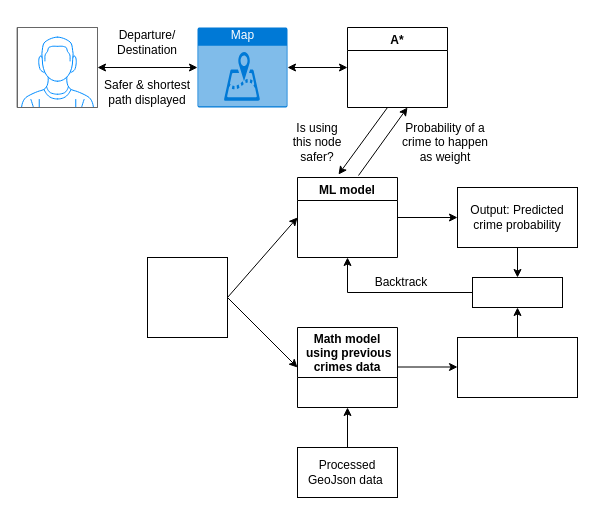
This 595x515 diagram has some shape labels left out. The shapes that lost their labels are listed below. From the top down, each one's centre as x and y in pixels, then its label:
At [187,297]: "Generated random user input".
At [517,292]: "Evaluation (MSE)".
At [517,367]: "Target(Ground truth): happened crime rate for a zone".
